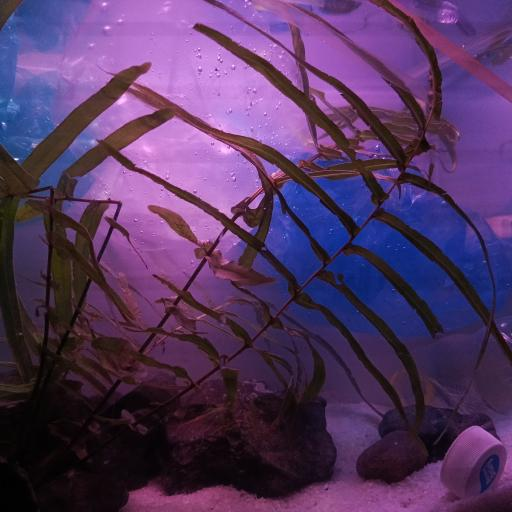bottle_cap: (442, 424, 504, 498)
plastic_bag: (69, 2, 311, 302), (226, 140, 512, 337), (0, 28, 109, 218)
plastic_straw: (379, 0, 512, 103)
